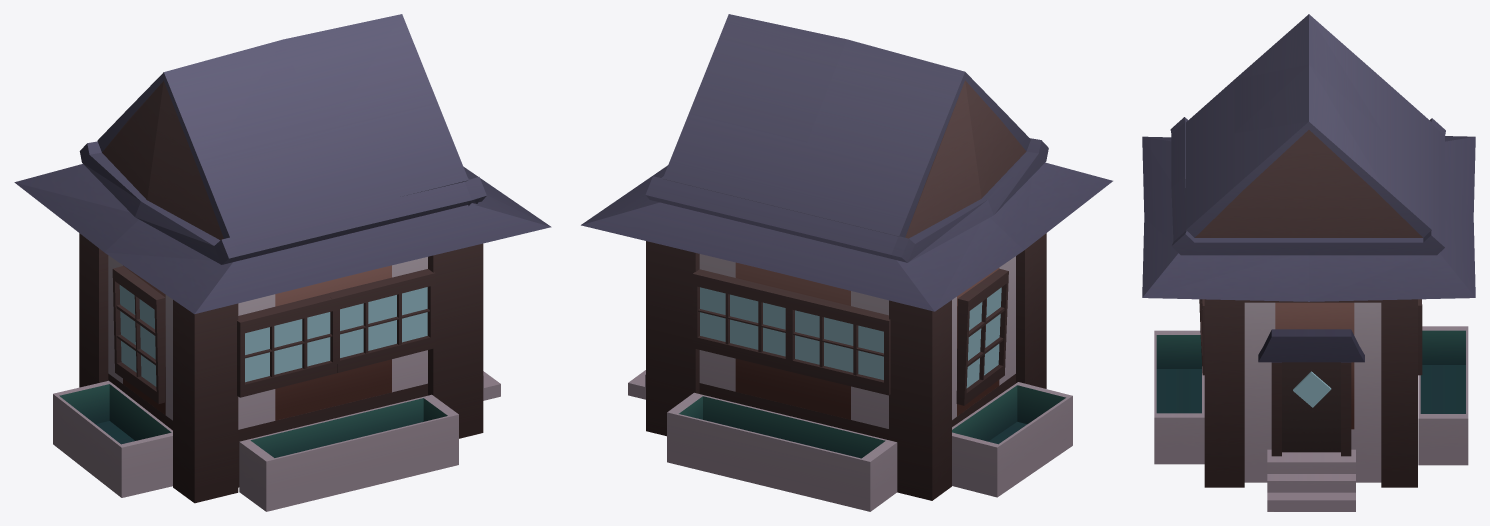
File: CasinhaC 1.fbx
3 views of the same model, side by side, from view 1: azimuth 30°, elevation 25°; view 2: azimuth 150°, elevation 25°; view 3: azimuth 270°, elevation 25° (orthographic). The views are drawn at different scales.
Visible parts, largest first — view 1: pCube80; view 2: pCube80; view 3: pCube80.
Boxes of the visible parts, x1=… form: pCube80: x1=14, y1=14, x2=551, y2=511; pCube80: x1=581, y1=14, x2=1112, y2=511; pCube80: x1=1142, y1=14, x2=1475, y2=511.
Size of the model in its own units: 3.07 by 2.92 by 2.46.
